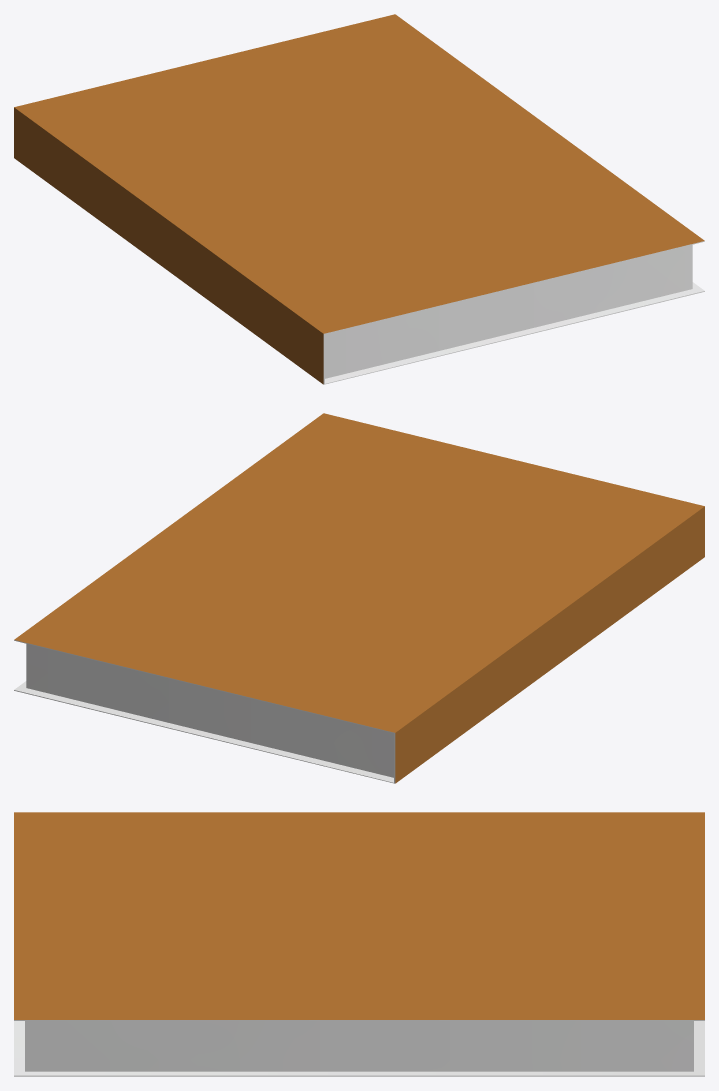
Rendered from Book_07.fbx.
The picture shows the model from 3 angles, top to bottom: view 1: azimuth 30°, elevation 25°; view 2: azimuth 150°, elevation 25°; view 3: azimuth 270°, elevation 25°; orthographic projection. The views are drawn at different scales.
Parts seen in each view (by area): view 1: Book_07; view 2: Book_07; view 3: Book_07.
Part boxes in pixels (x1,y1,x2,y2): Book_07: (14,14,704,384); Book_07: (14,413,704,783); Book_07: (14,812,704,1076).
Bounding box in the file's own units: 21.61 × 2.75 × 30.4.
